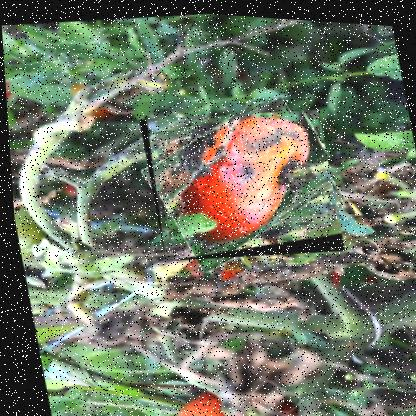tomato_rotten: (136, 93, 343, 266)
